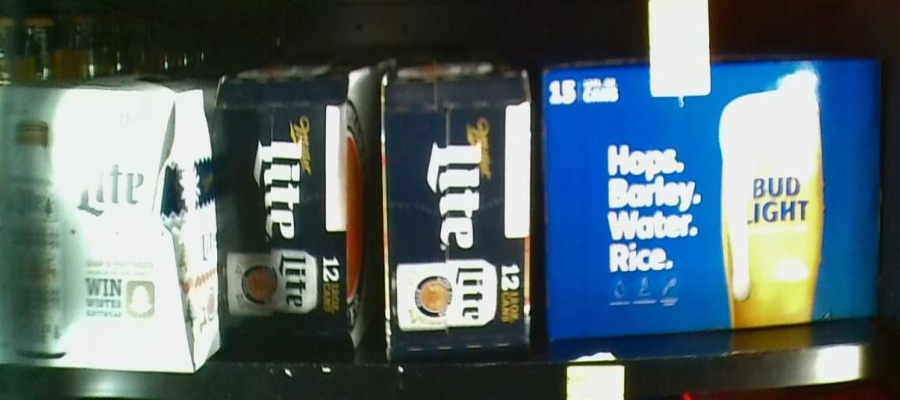bottle: (543, 63, 879, 326), (1, 66, 224, 361), (224, 63, 381, 364), (382, 72, 529, 354)
